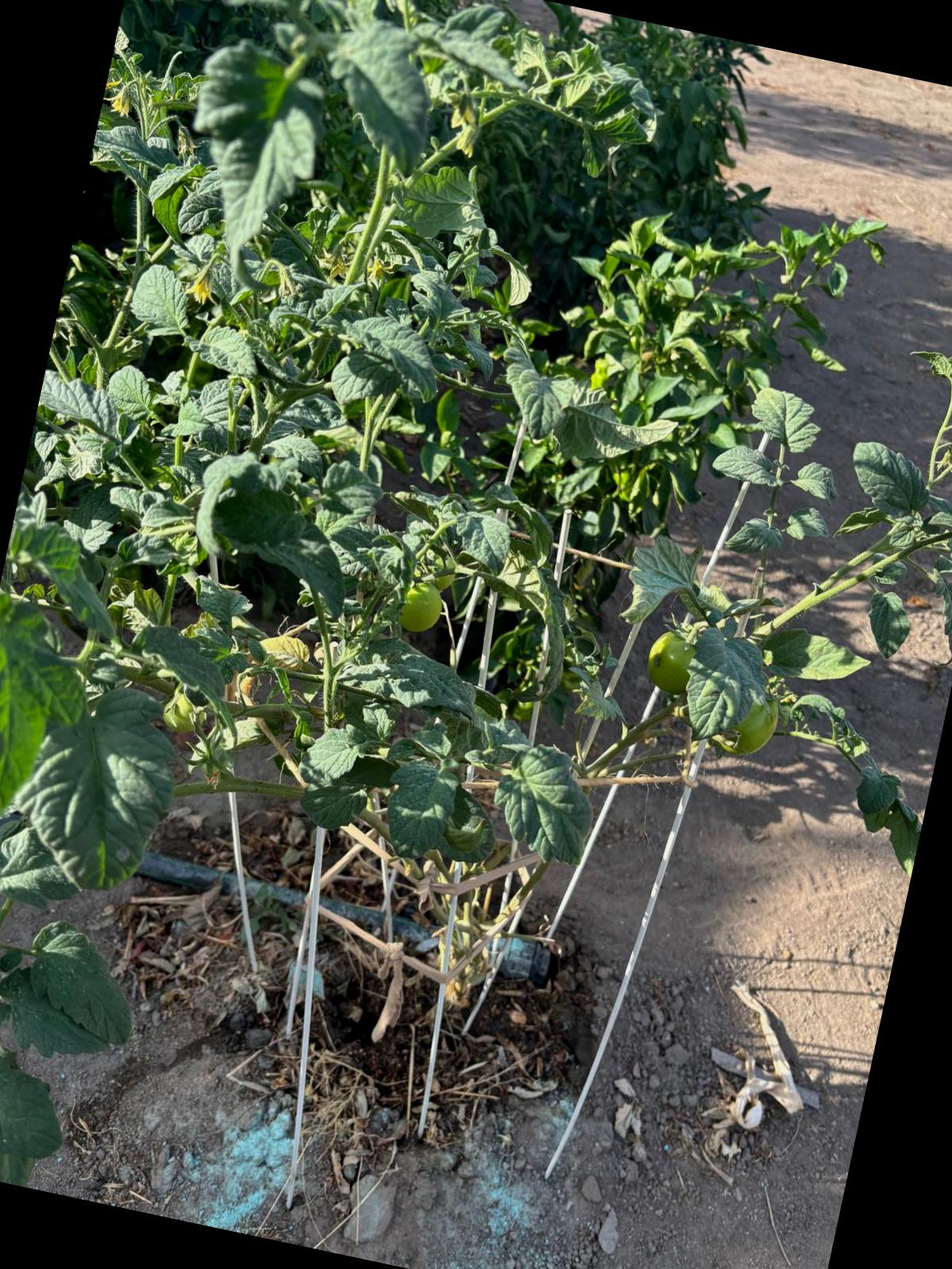tomatera: (140, 290, 912, 1238)
